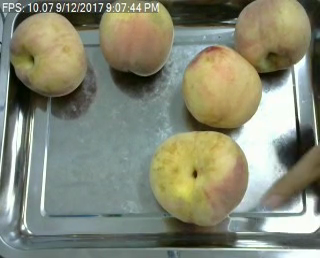Peach: (151, 131, 250, 229), (8, 11, 89, 97), (182, 44, 262, 129), (95, 0, 175, 75), (234, 0, 312, 72)
